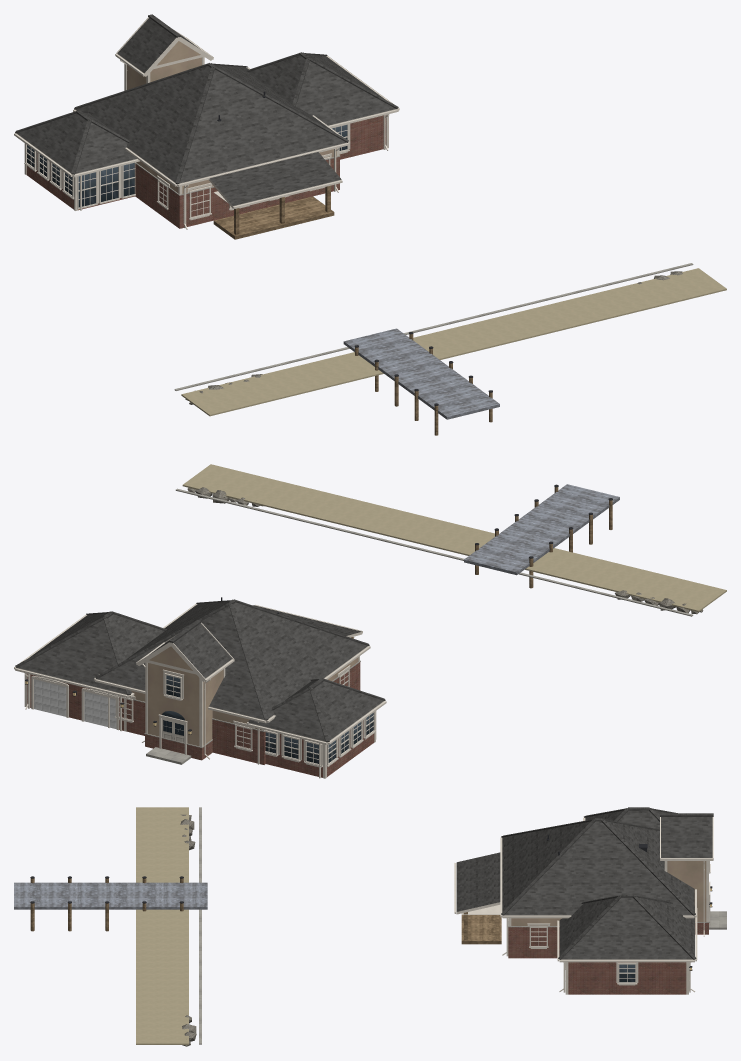
File: lot-8317.fbx
The picture shows the model from 3 angles, top to bottom: view 1: azimuth 30°, elevation 25°; view 2: azimuth 150°, elevation 25°; view 3: azimuth 270°, elevation 25°; orthographic projection. The views are drawn at different scales.
Visible parts, largest first — view 1: lot-8317_LOD0; view 2: lot-8317_LOD0; view 3: lot-8317_LOD0.
Boxes of the visible parts, x1,y1,x2,y2 form: lot-8317_LOD0: (14,14,726,435); lot-8317_LOD0: (14,464,726,778); lot-8317_LOD0: (14,807,726,1046).
Size of what is drawn, in the model's own units: 39 by 9.75 by 49.7.
Materials: 2 (2 with a texture image).
